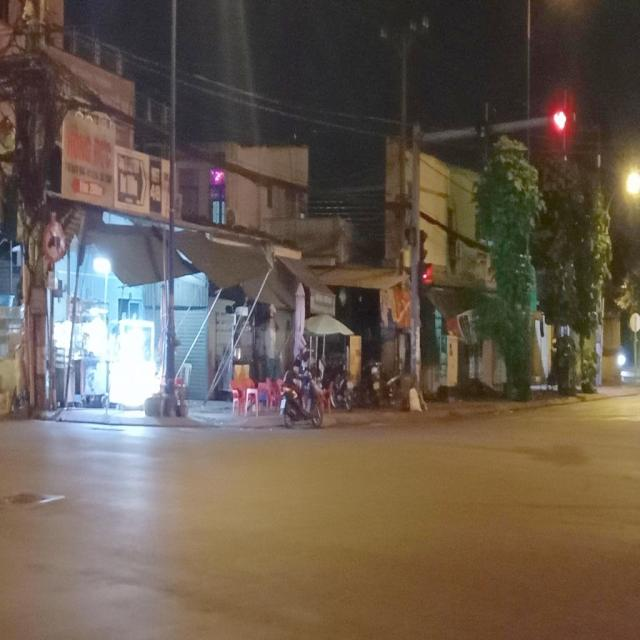cam_o_to_tai: (42, 220, 66, 263)
